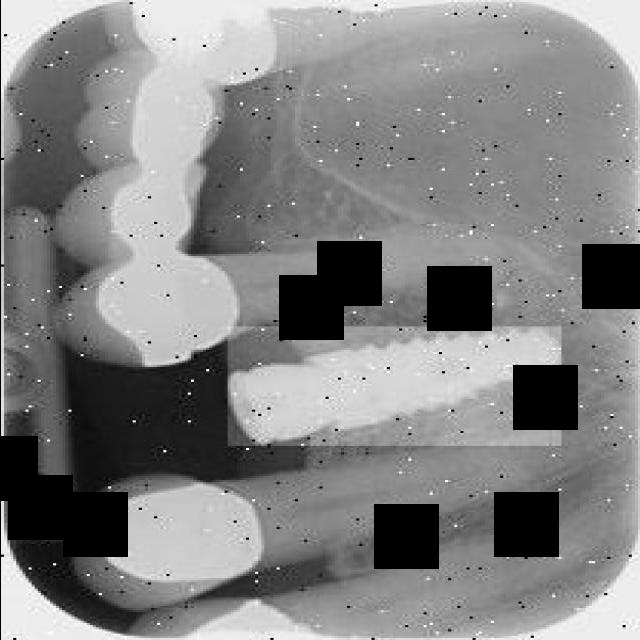Osstem Implant: (220, 312, 568, 450)
